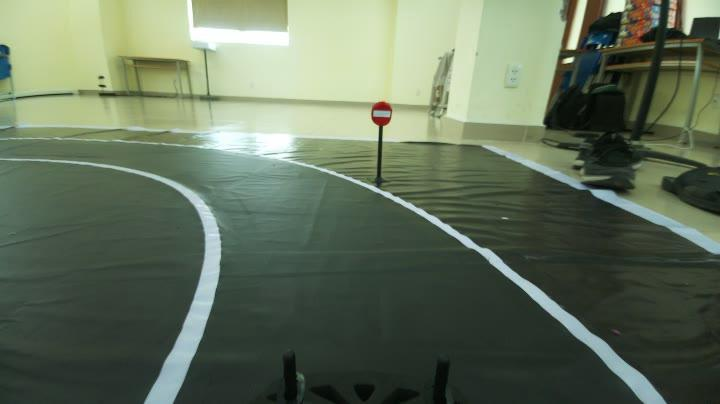no_entry: (366, 95, 398, 132)
